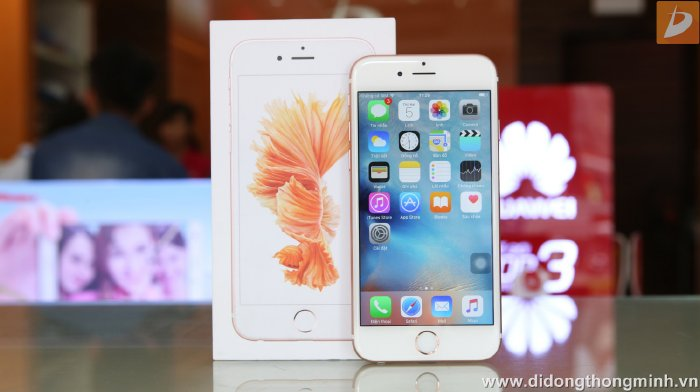iphone: (345, 49, 504, 373)
iphone8: (343, 47, 502, 371)
